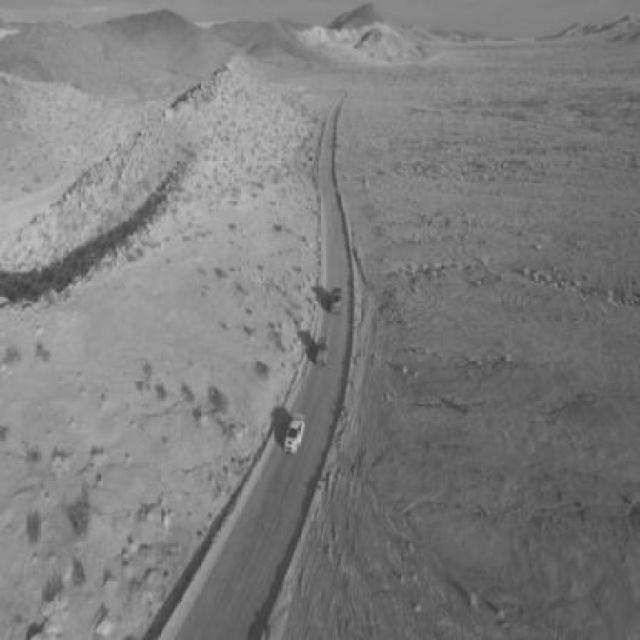Vehicle: (287, 410, 307, 455), (333, 285, 347, 317), (317, 335, 331, 367)
